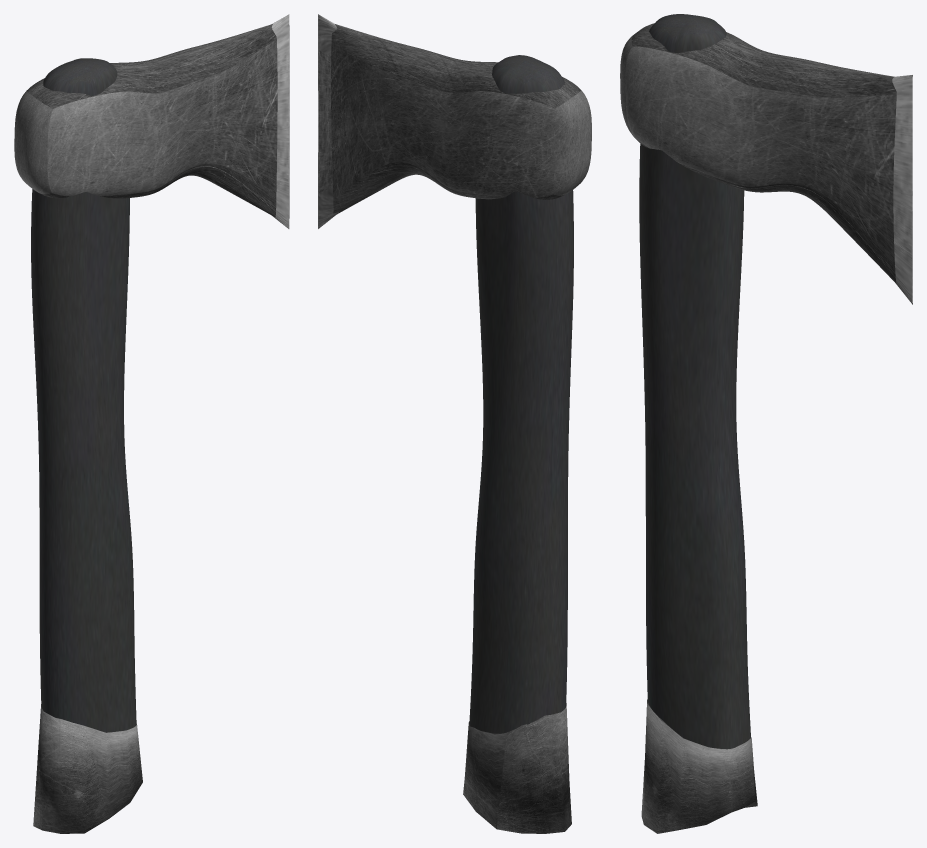
File: Axe.fbx
The picture shows the model from 3 angles, left to right: view 1: azimuth 30°, elevation 25°; view 2: azimuth 150°, elevation 25°; view 3: azimuth 330°, elevation 25°; orthographic projection. The views are drawn at different scales.
Visible parts, largest first — view 1: Axe; view 2: Axe; view 3: Axe.
Part boxes in pixels (box(x1,y1,x2,y2)): Axe: box(14, 14, 289, 833); Axe: box(318, 14, 591, 833); Axe: box(620, 14, 912, 833).
Size of the model in its own units: 41.56 by 112 by 10.6.
